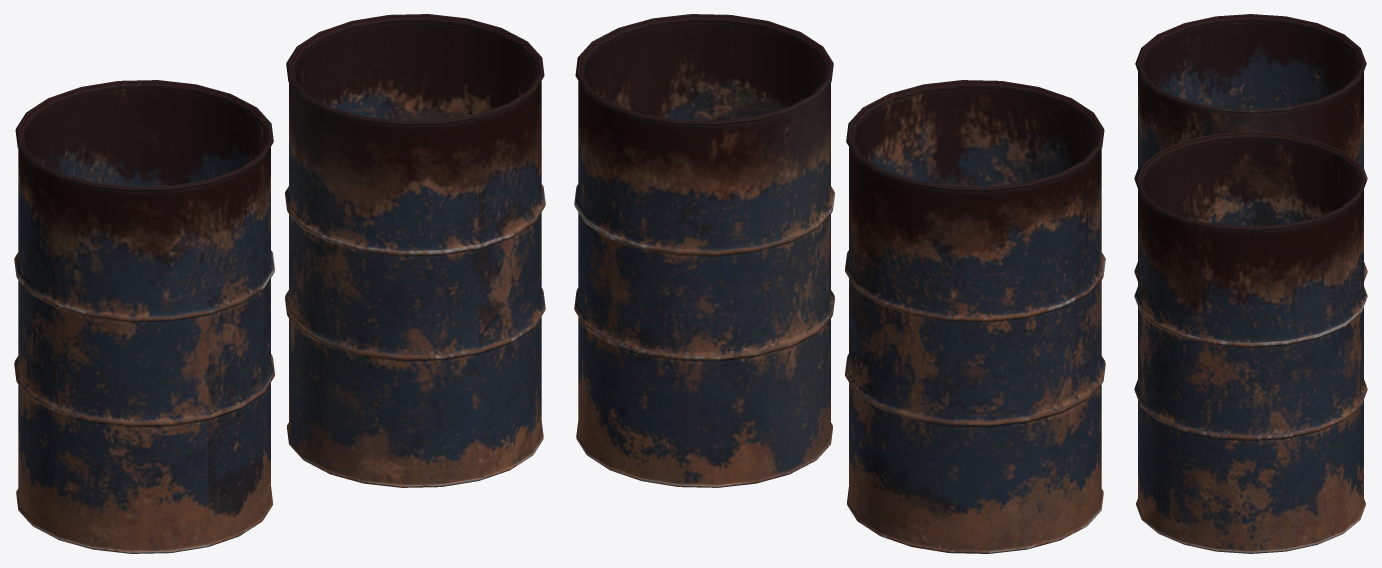
The model's file is burn_barrels.glb.
3 views of the same model, side by side, from view 1: azimuth 30°, elevation 25°; view 2: azimuth 150°, elevation 25°; view 3: azimuth 270°, elevation 25° (orthographic). The views are drawn at different scales.
Parts seen in each view (by area): view 1: Burn_Barrel1, Burn_Barrel2; view 2: Burn_Barrel1, Burn_Barrel2; view 3: Burn_Barrel2, Burn_Barrel1.
Part boxes in pixels (x1=…): Burn_Barrel1: x1=14, y1=80, x2=274, y2=553; Burn_Barrel2: x1=285, y1=14, x2=545, y2=487; Burn_Barrel1: x1=845, y1=80, x2=1105, y2=553; Burn_Barrel2: x1=574, y1=14, x2=834, y2=487; Burn_Barrel2: x1=1134, y1=131, x2=1367, y2=553; Burn_Barrel1: x1=1134, y1=14, x2=1367, y2=281.
Bounding box in the file's own units: 4.53 × 3.19 × 2.07.
1 material, 1 textured.
